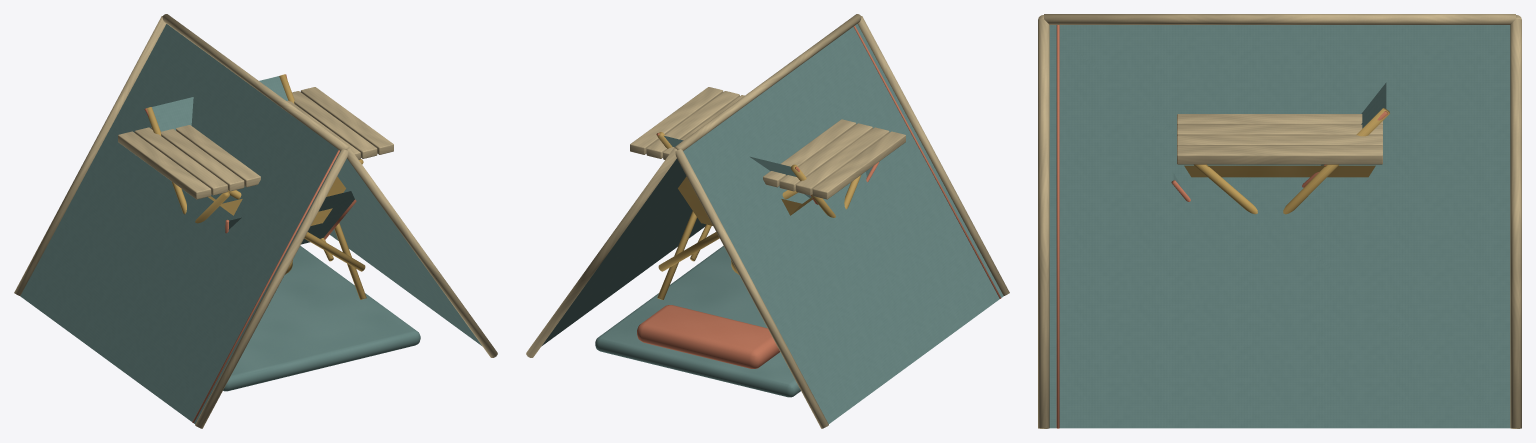
Rendered from tidy-life-camp.glb.
The picture shows the model from 3 angles, left to right: view 1: azimuth 30°, elevation 25°; view 2: azimuth 150°, elevation 25°; view 3: azimuth 270°, elevation 25°; orthographic projection. The views are drawn at different scales.
Parts seen in each view (by area): view 1: life_camp_tent_mesh, life_camp_camptable_mesh, life_camp_campchair_mesh, life_camp_firepit_mesh; view 2: life_camp_tent_mesh, life_camp_camptable_mesh, life_camp_campchair_mesh, life_camp_firepit_mesh; view 3: life_camp_tent_mesh, life_camp_camptable_mesh, life_camp_campchair_mesh, life_camp_firepit_mesh.
Boxes of the visible parts, box(x1,y1,x2,y2) form: life_camp_tent_mesh: box(14, 14, 497, 428); life_camp_camptable_mesh: box(118, 87, 393, 271); life_camp_campchair_mesh: box(144, 74, 366, 299); life_camp_firepit_mesh: box(208, 176, 345, 261); life_camp_tent_mesh: box(526, 14, 1009, 428); life_camp_camptable_mesh: box(630, 87, 905, 271); life_camp_campchair_mesh: box(656, 132, 879, 299); life_camp_firepit_mesh: box(678, 176, 812, 261); life_camp_tent_mesh: box(1038, 14, 1521, 428); life_camp_camptable_mesh: box(1177, 114, 1382, 164); life_camp_campchair_mesh: box(1171, 82, 1389, 214); life_camp_firepit_mesh: box(1184, 165, 1375, 177).
Bounding box in the file's own units: 0.64 × 0.5 × 0.68.
7 materials, 7 textured.
